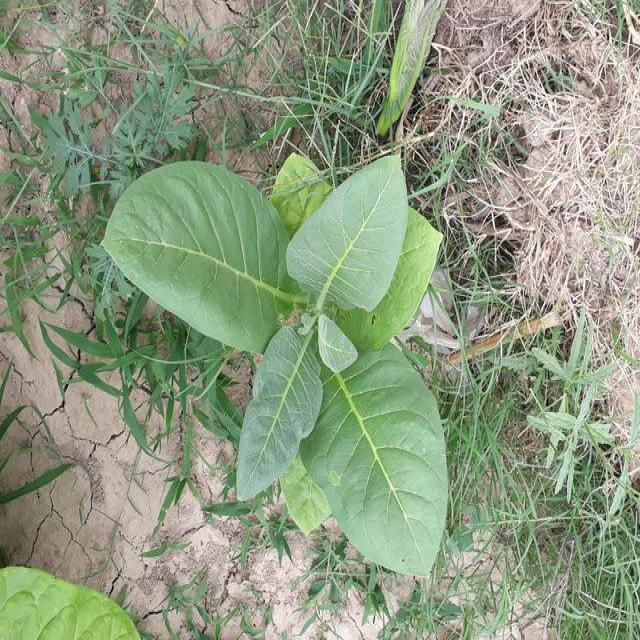crop: (104, 157, 452, 584)
